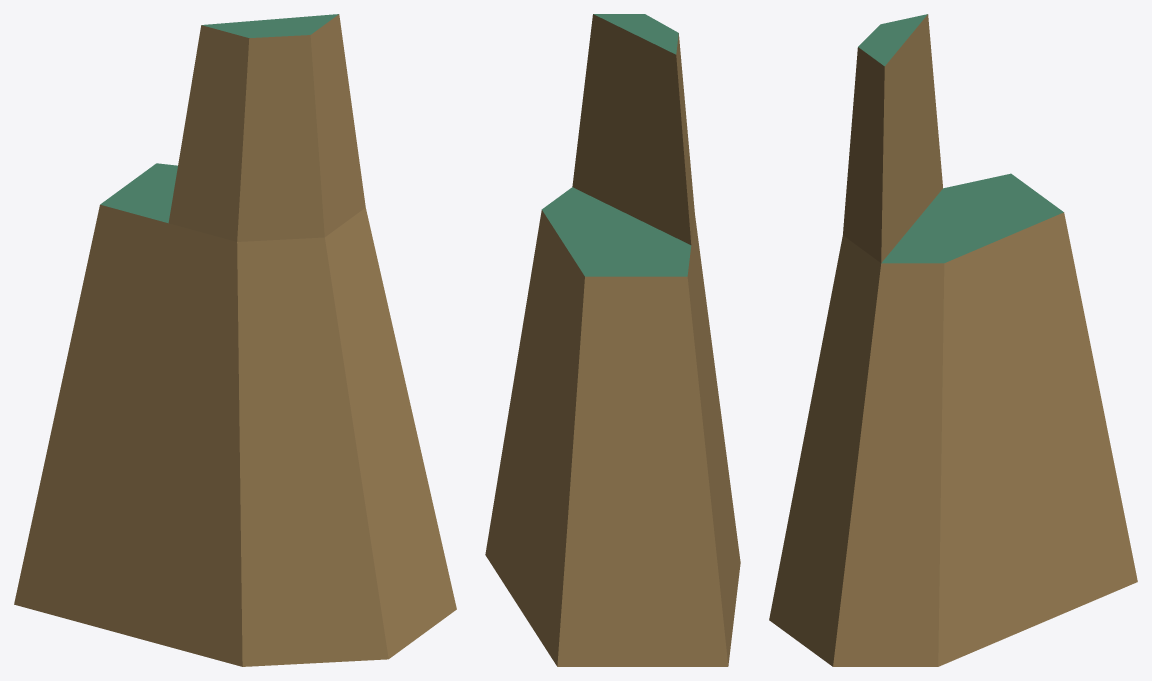
The model's file is naturePack_038.obj.
The picture shows the model from 3 angles, left to right: view 1: azimuth 30°, elevation 25°; view 2: azimuth 150°, elevation 25°; view 3: azimuth 270°, elevation 25°; orthographic projection. The views are drawn at different scales.
Parts seen in each view (by area): view 1: Wood, Mesh1 Group1 Model, Green_leafs; view 2: Wood, Green_leafs, Mesh1 Group1 Model; view 3: Wood, Green_leafs.
Boxes of the visible parts, x1,y1,x2,y2 form: Wood: [14, 14, 456, 666]; Mesh1 Group1 Model: [168, 25, 249, 241]; Green_leafs: [100, 14, 338, 223]; Wood: [485, 14, 740, 666]; Green_leafs: [542, 14, 691, 276]; Mesh1 Group1 Model: [676, 33, 694, 243]; Wood: [769, 14, 1137, 666]; Green_leafs: [858, 14, 1063, 263].
Size of the model in its own units: 1.23 by 2.14 by 1.28.
